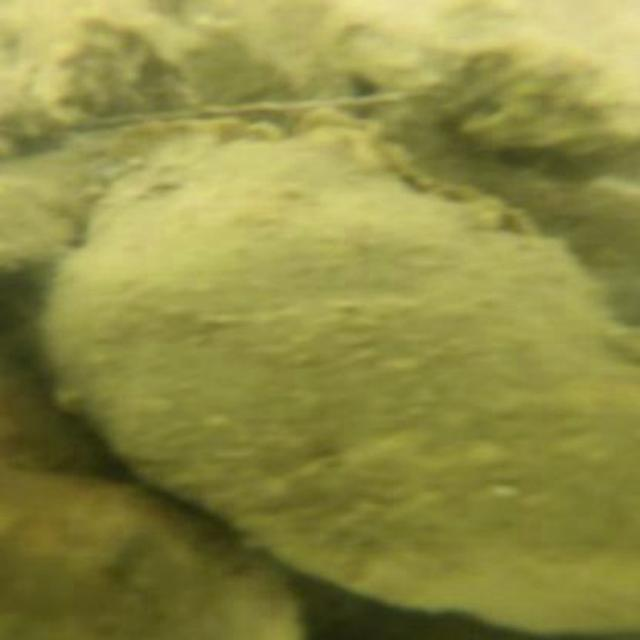Oyster-Closed: (34, 107, 640, 640)
